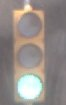Green: (9, 11, 54, 104)
